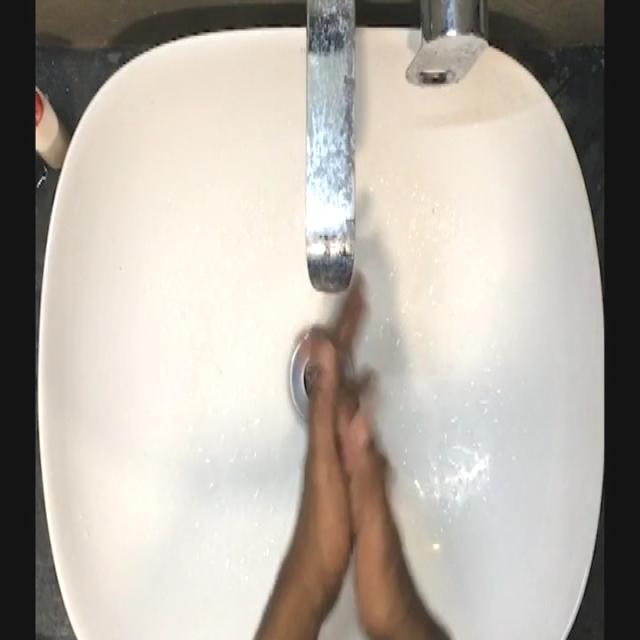step_3: (275, 270, 411, 592)
